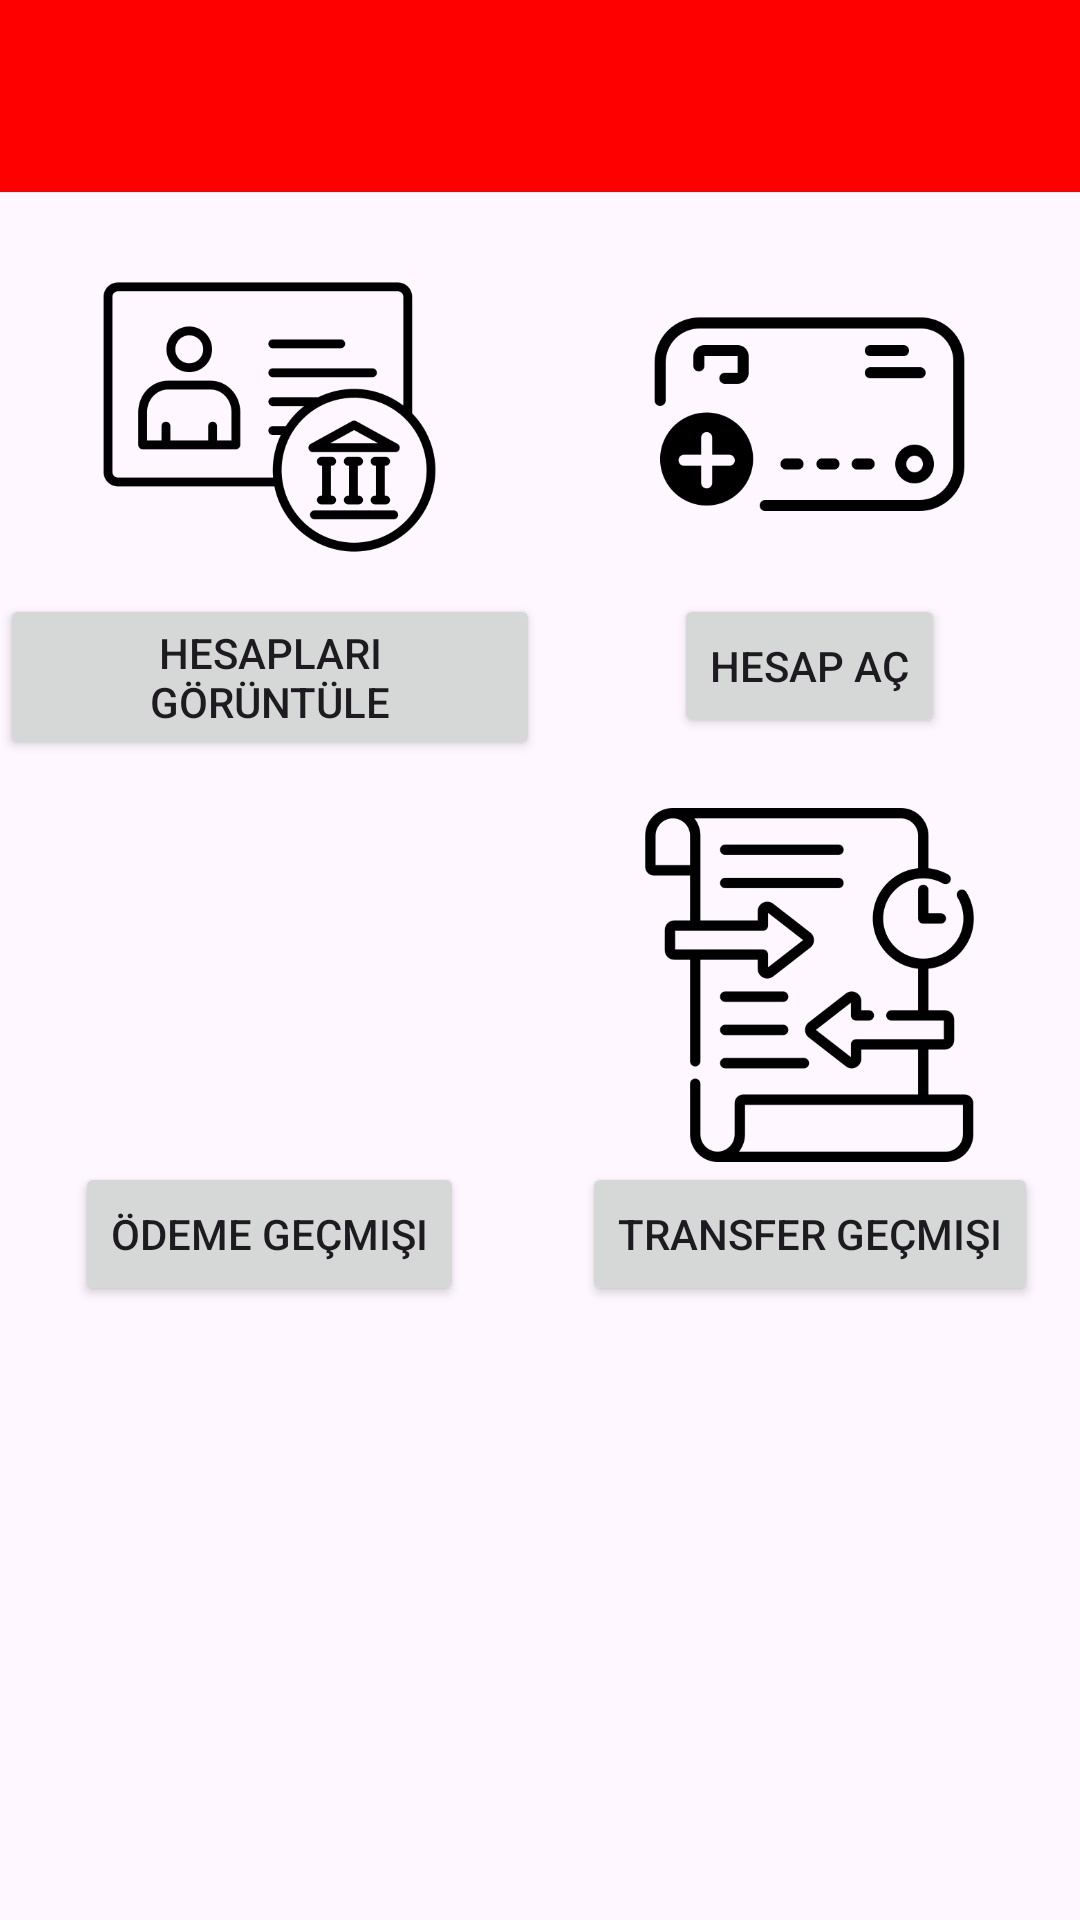

Screen size 1080w x 1920h. Icon name, then its box in pixels as (x1, y1, x2, y2):
card: (654, 317, 965, 511)
